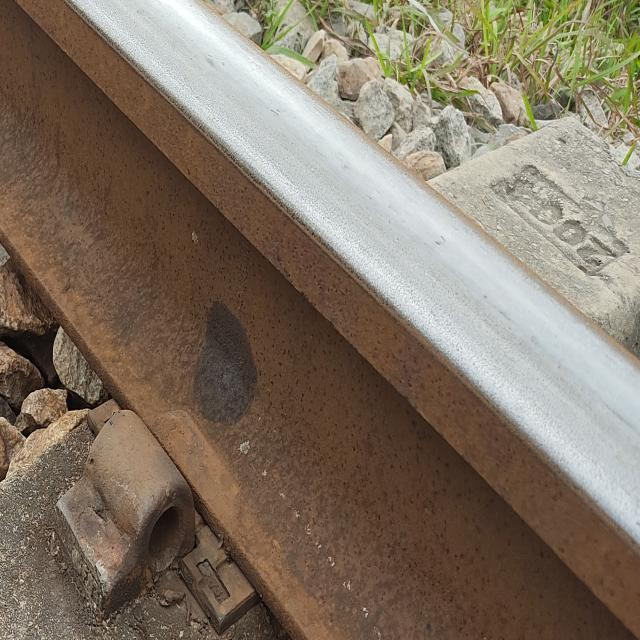Missing Fastener: (48, 372, 212, 621)
